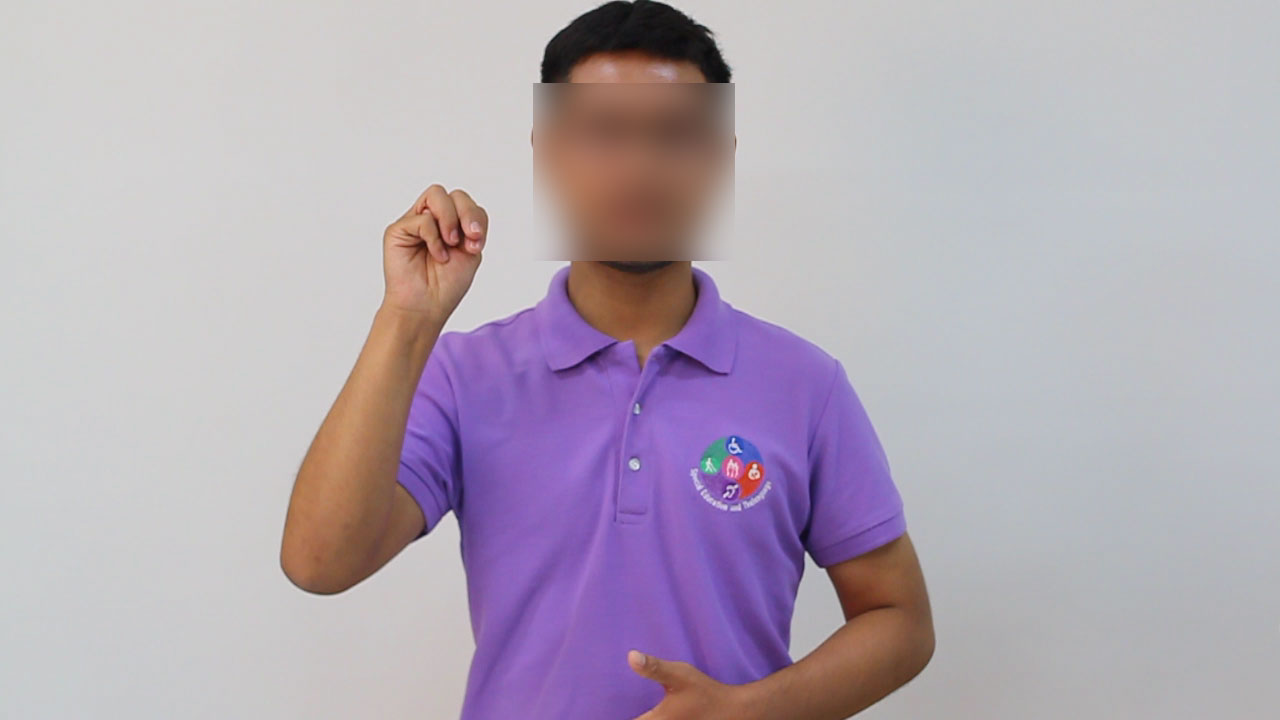mor: (372, 173, 493, 332)
